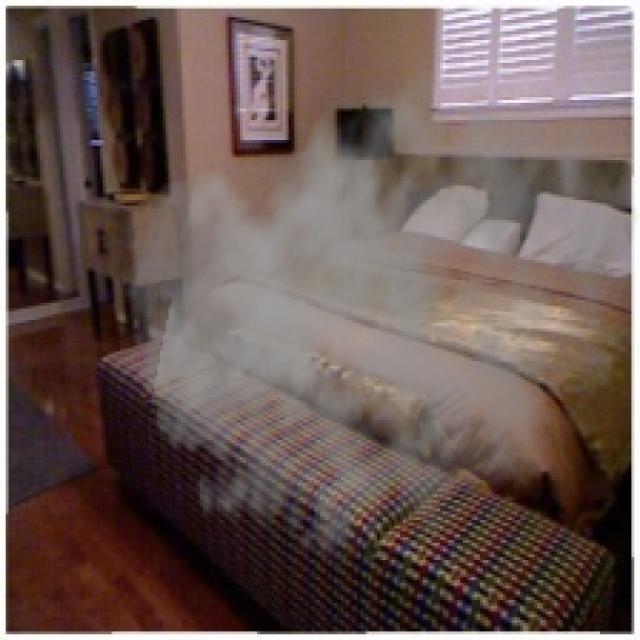Smoke: (114, 37, 637, 580)
